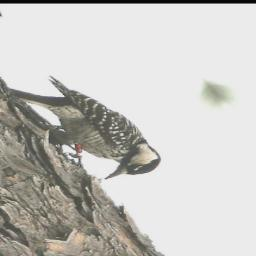Woodpecker: (2, 61, 169, 195)
